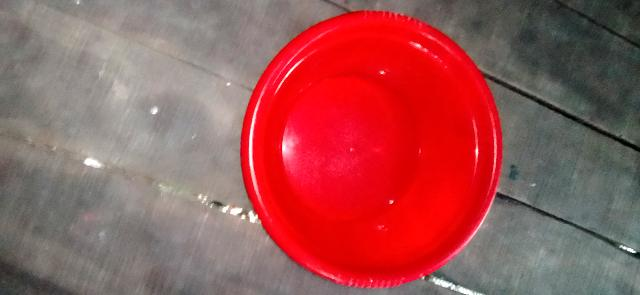hardplastic: (230, 6, 515, 289)
